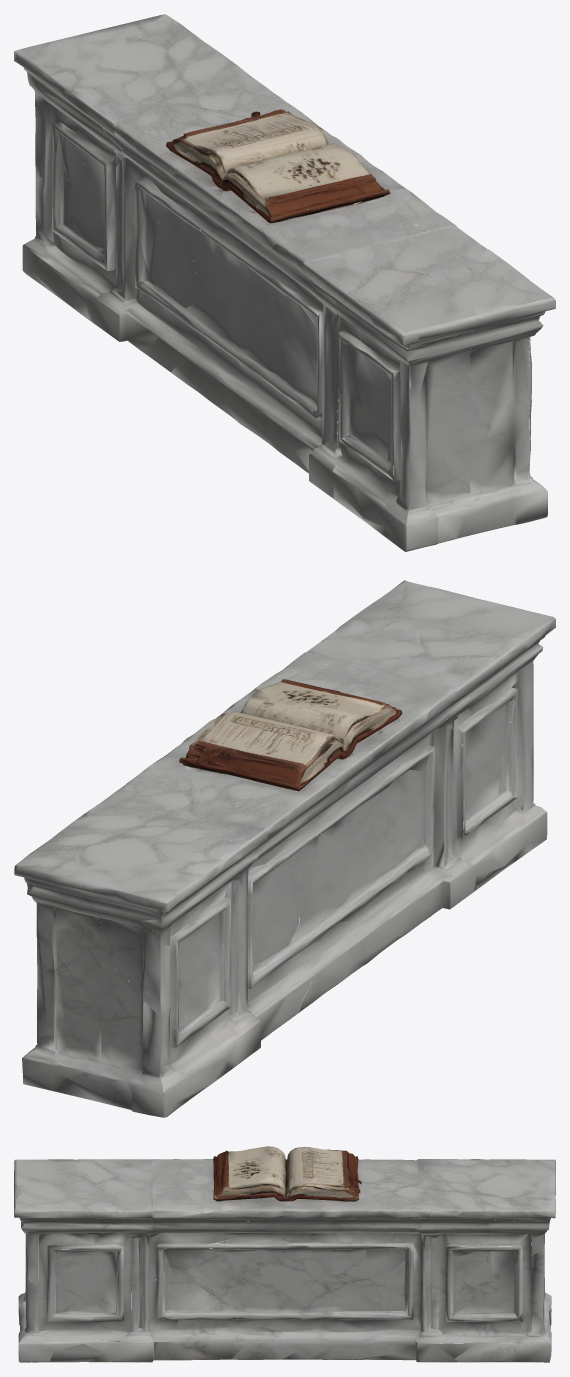
File: penn_census_desk.glb
3 renders of one model, top to bottom at view 1: azimuth 30°, elevation 25°; view 2: azimuth 150°, elevation 25°; view 3: azimuth 270°, elevation 25°, orthographic. The views are drawn at different scales.
Visible parts, largest first — view 1: tripo_node_b3af6cbf-0a3f-435f-9ac8-5209464bec9c; view 2: tripo_node_b3af6cbf-0a3f-435f-9ac8-5209464bec9c; view 3: tripo_node_b3af6cbf-0a3f-435f-9ac8-5209464bec9c.
Part boxes in pixels (x1,y1,x2,y2): tripo_node_b3af6cbf-0a3f-435f-9ac8-5209464bec9c: [14, 14, 555, 551]; tripo_node_b3af6cbf-0a3f-435f-9ac8-5209464bec9c: [14, 580, 555, 1117]; tripo_node_b3af6cbf-0a3f-435f-9ac8-5209464bec9c: [14, 1146, 555, 1362].
Bounding box in the file's own units: 0.229 × 0.3521 × 1.
1 material, 1 textured.
